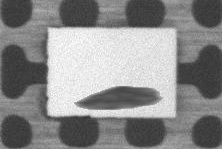DIE_INK: (75, 83, 163, 110)
